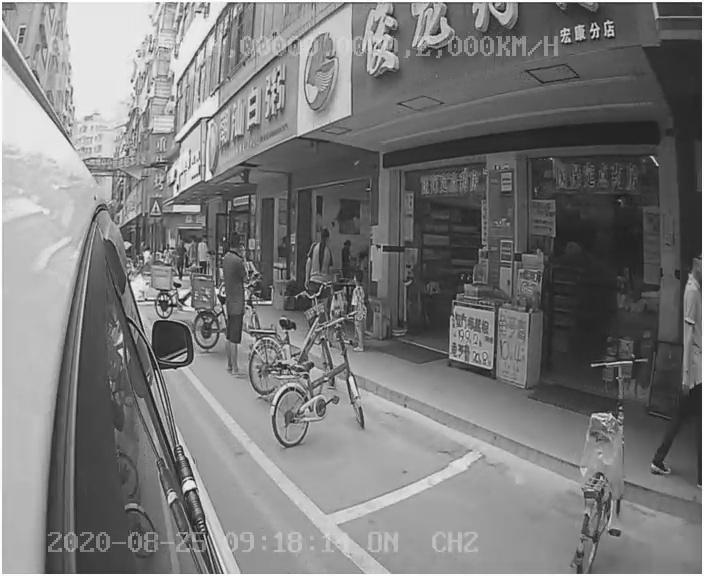person: (208, 236, 261, 385)
